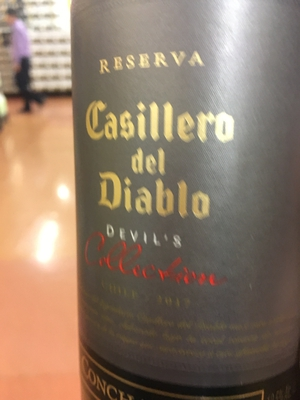casillero del diablo devils collection rojo: (70, 1, 300, 399)
